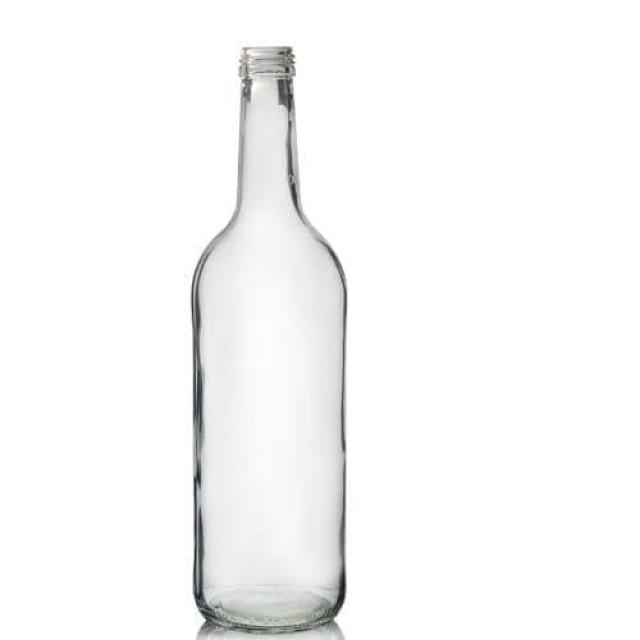glass bottle: (100, 19, 446, 638)
